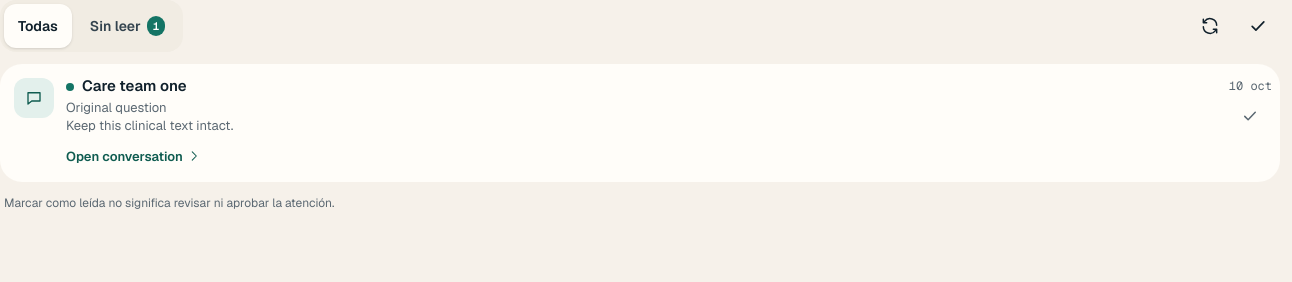
Test: patient notification centre › localizes load and uncertain write feedback in Spanish while retaining original content
This screenshot has width=1292, height=282.
Expected: the heading "Care team one" is shown, [82,76,187,95]
Click the button named "Marcar como leída: Care team one": (1250, 116) [1228,94,1272,138]
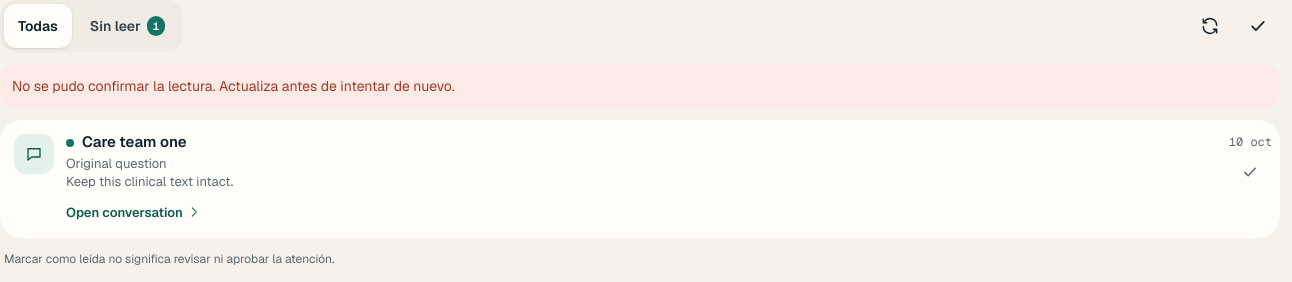
Expected: the text "Original question Keep this clinical text intact." is shown, [66,155,233,190]
Result: the message shows "No se pudo confirmar la lectura" at [12,77,455,95]
Click the button named "Actualizar": (1210, 26) [1188,4,1232,48]
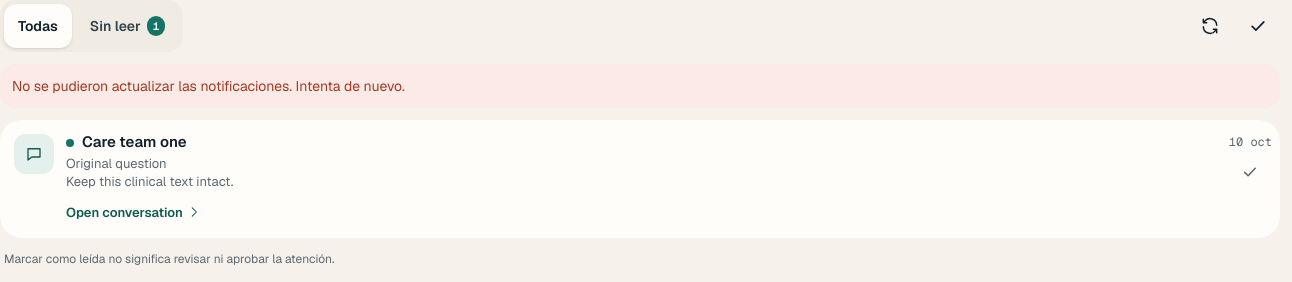
Expected: the heading "Care team one" is shown, [82,132,187,151]
Result: the message shows "No se pudieron actualizar" at [12,77,405,95]
